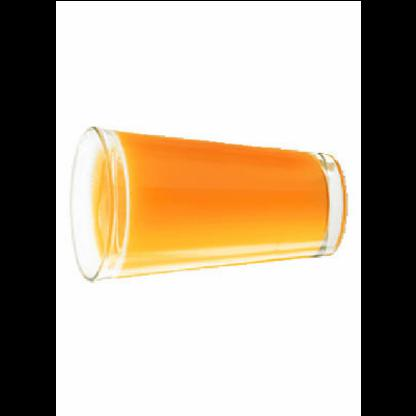orange juice: (87, 128, 330, 278)
